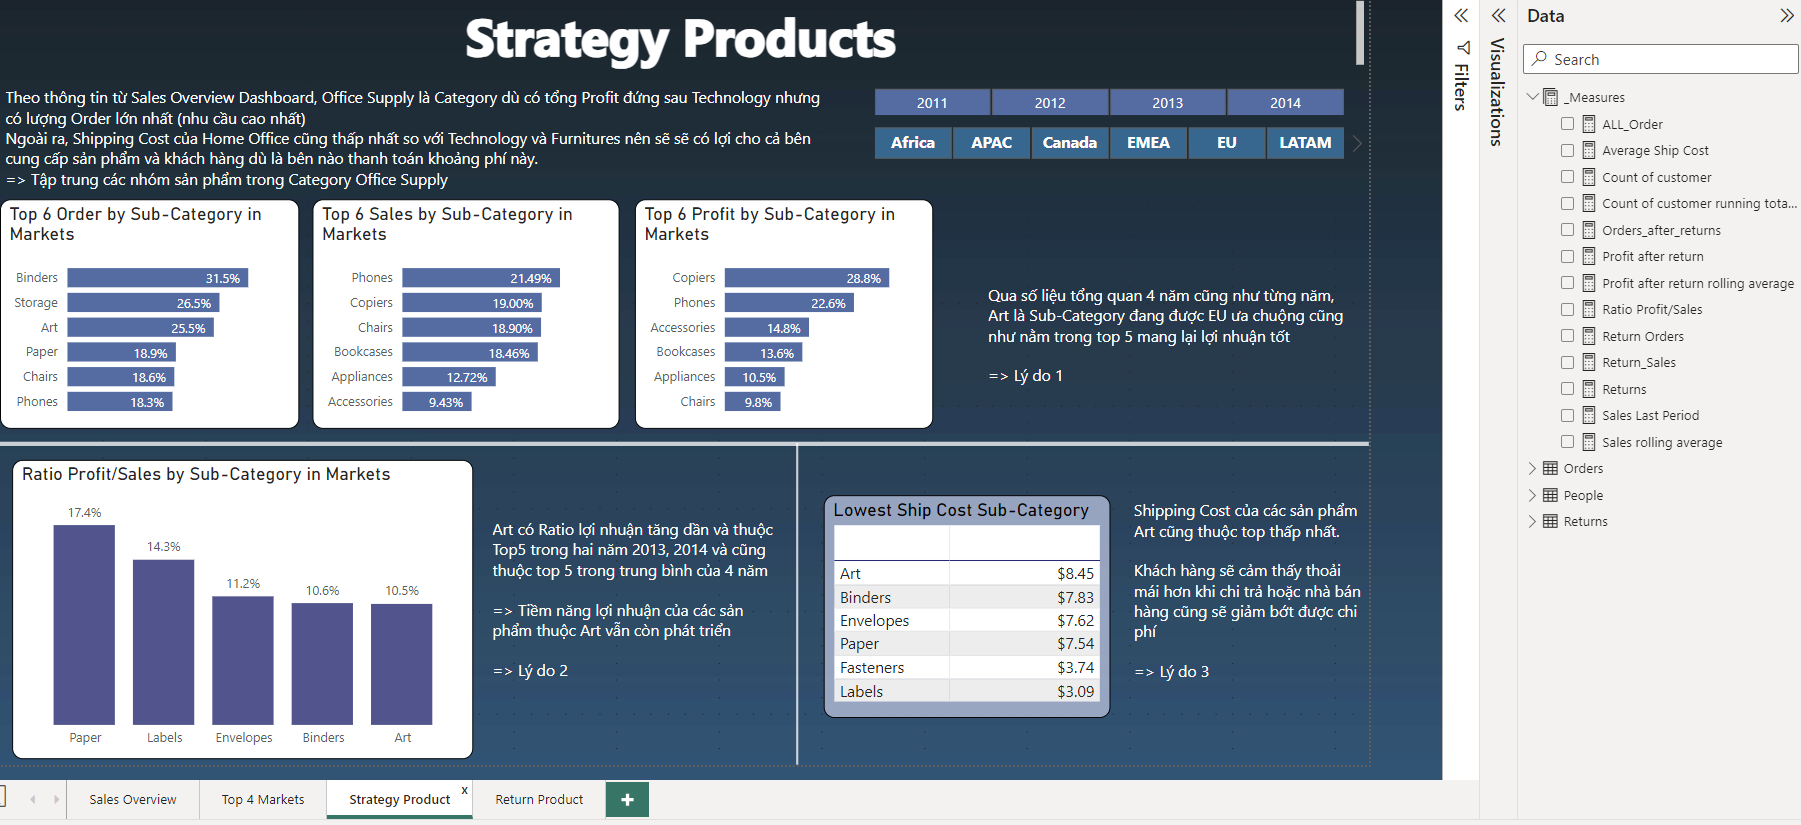

This screenshot's page, from the dashboard's own definition file:
{"tool":"powerbi","page":{"name":"Strategy Product","canvas":[1280,720],"ordinal":2},"visuals":[{"type":"textbox","box":[0,0,1280,80],"z":0},{"type":"textbox","box":[918.7,265.3,343.7,116.6],"z":1000},{"type":"clusteredBarChart","title":"Top 6 Order by Sub-Category in Markets","fields":{"Category":["Orders.Sub-Category"],"Y":["_Measures.ALL_Order"]},"box":[0,191,279.7,214.7],"z":2000},{"type":"clusteredBarChart","title":"Top 6 Profit by Sub-Category in Markets","fields":{"Category":["Orders.Sub-Category"],"Y":["_Measures.Profit after return"]},"box":[593.5,191,278.7,214.7],"z":3000},{"type":"clusteredColumnChart","title":"Ratio Profit/Sales by Sub-Category in Markets","fields":{"Y":["_Measures.Ratio Sales/Profit"],"Category":["Orders.Sub-Category"]},"box":[11.4,434.6,431.5,279.7],"z":4000},{"type":"tableEx","title":"Lowest Ship Cost Sub-Category","fields":{"Values":["Orders.Sub-Category","_Measures.Average Ship Cost"]},"box":[770.1,467.6,268.4,208.5],"z":5000},{"type":"shape","box":[0,410.8,1280,17.5],"z":6000},{"type":"textbox","box":[0,80.5,782.5,110.5],"z":7000},{"type":"textbox","box":[455,483.8,277.5,178.8],"z":8000},{"type":"shape","box":[739.1,419.1,12.4,300.4],"z":9000},{"type":"textbox","box":[1055,466.2,225,212.5],"z":10000},{"type":"slicer","fields":{"Values":["Orders.Order Date.Variation.Date Hierarchy.Year"]},"box":[791.7,80.5,488.3,32],"z":11000},{"type":"slicer","fields":{"Values":["Orders.Market"]},"box":[791.7,116.6,488.3,39.2],"z":12000},{"type":"clusteredBarChart","title":"Top 6 Sales by Sub-Category in Markets","fields":{"Y":["Sum(Orders.Sales)"],"Category":["Orders.Sub-Category"]},"box":[292.1,191,287,214.7],"z":13000}]}

Visuals, with their boxes on the page's 1280x720 design canvas (x1, y1, x2, y2). These are canvas units, not pixel positions in the 1801x825 screenshot, which may show the page scaled, cropped or inside an application window:
textbox: left=0, top=0, right=1280, bottom=80
textbox: left=919, top=265, right=1262, bottom=382
"Top 6 Order by Sub-Category in Markets" clusteredBarChart: left=0, top=191, right=280, bottom=406
"Top 6 Profit by Sub-Category in Markets" clusteredBarChart: left=594, top=191, right=872, bottom=406
"Ratio Profit/Sales by Sub-Category in Markets" clusteredColumnChart: left=11, top=435, right=443, bottom=714
"Lowest Ship Cost Sub-Category" tableEx: left=770, top=468, right=1038, bottom=676
shape: left=0, top=411, right=1280, bottom=428
textbox: left=0, top=80, right=782, bottom=191
textbox: left=455, top=484, right=732, bottom=663
shape: left=739, top=419, right=752, bottom=720
textbox: left=1055, top=466, right=1280, bottom=679
slicer - Orders.Order Date.Variation.Date Hierarchy.Year: left=792, top=80, right=1280, bottom=112
slicer - Orders.Market: left=792, top=117, right=1280, bottom=156
"Top 6 Sales by Sub-Category in Markets" clusteredBarChart: left=292, top=191, right=579, bottom=406
